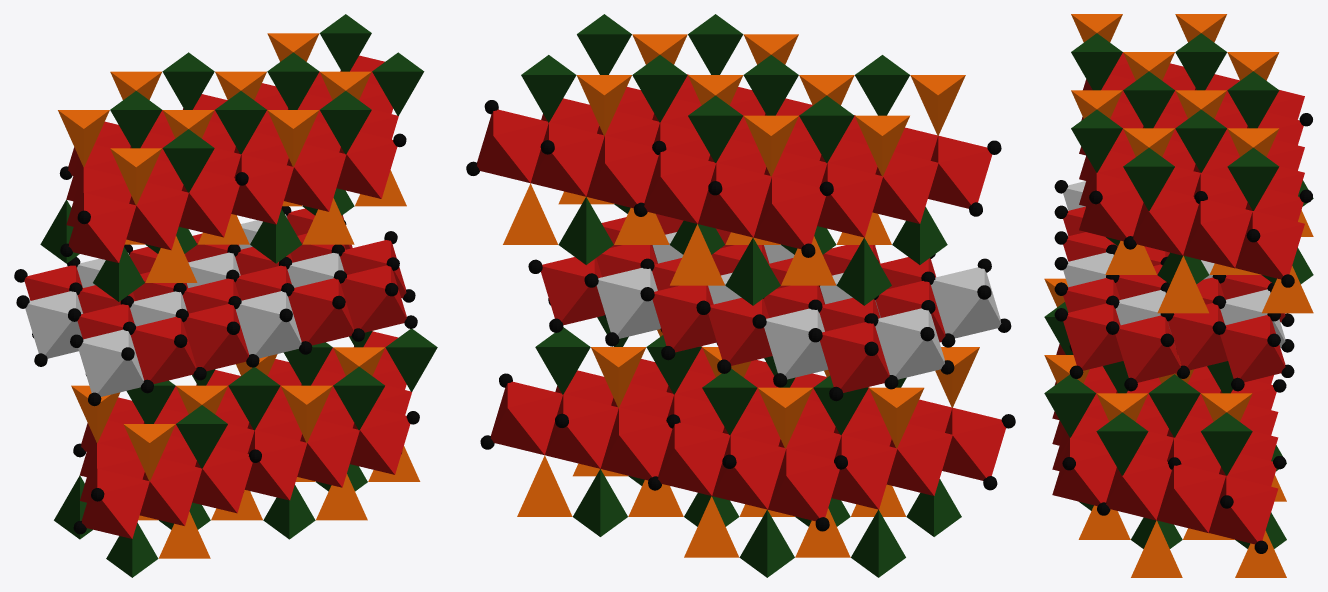
Rendered from Clorita.obj.
The picture shows the model from 3 angles, left to right: view 1: azimuth 30°, elevation 25°; view 2: azimuth 150°, elevation 25°; view 3: azimuth 270°, elevation 25°; orthographic projection. The views are drawn at different scales.
Parts seen in each view (by area): view 1: Folha_Brucita_binterlamelar_Solid.643, Folha_Brucita_cima.002_Solid.640, Folha_Brucita_baixo.002_Solid.637, Folha_tetraedrica_Br_topo_cima.002_Solid.642, Folha_tetraedrica_Br_topo.002_Solid.639, Folha_tetraedrica_Br_base_cima.002_Solid.641, Folha_tetraedrica_Br_base.002_Solid.638, Folha_hidroxila_intersticial_cima_Sphere.034, Folha_hidroxila_intersticial_baixo_Sphere.036; view 2: Folha_Brucita_cima.002_Solid.640, Folha_Brucita_baixo.002_Solid.637, Folha_Brucita_binterlamelar_Solid.643, Folha_tetraedrica_Br_topo_cima.002_Solid.642, Folha_tetraedrica_Br_base_cima.002_Solid.641, Folha_tetraedrica_Br_base.002_Solid.638, Folha_tetraedrica_Br_topo.002_Solid.639, Folha_hidroxila_intersticial_cima_Sphere.034, Folha_hidroxila_intersticial_baixo_Sphere.036, Folha_hidroxila1_cima.002_Sphere.031, Folha_hidroxila1_baixo.002_Sphere.029; view 3: Folha_Brucita_cima.002_Solid.640, Folha_Brucita_baixo.002_Solid.637, Folha_tetraedrica_Br_topo_cima.002_Solid.642, Folha_Brucita_binterlamelar_Solid.643, Folha_tetraedrica_Br_topo.002_Solid.639, Folha_tetraedrica_Br_base_cima.002_Solid.641, Folha_tetraedrica_Br_base.002_Solid.638, Folha_hidroxila_intersticial_cima_Sphere.034, Folha_hidroxila_intersticial_baixo_Sphere.036, Folha_hidroxila1_cima.002_Sphere.031, Folha_hidroxila1_baixo.002_Sphere.029.
Part boxes in pixels (bbox=[...]): Folha_Brucita_binterlamelar_Solid.643: bbox=[24, 208, 406, 396]; Folha_Brucita_cima.002_Solid.640: bbox=[66, 55, 398, 262]; Folha_Brucita_baixo.002_Solid.637: bbox=[79, 331, 411, 538]; Folha_tetraedrica_Br_topo_cima.002_Solid.642: bbox=[58, 14, 424, 205]; Folha_tetraedrica_Br_topo.002_Solid.639: bbox=[71, 329, 437, 481]; Folha_tetraedrica_Br_base_cima.002_Solid.641: bbox=[40, 170, 406, 301]; Folha_tetraedrica_Br_base.002_Solid.638: bbox=[54, 446, 420, 577]; Folha_hidroxila_intersticial_cima_Sphere.034: bbox=[14, 206, 399, 360]; Folha_hidroxila_intersticial_baixo_Sphere.036: bbox=[32, 289, 417, 406]; Folha_Brucita_cima.002_Solid.640: bbox=[477, 74, 991, 248]; Folha_Brucita_baixo.002_Solid.637: bbox=[490, 346, 1005, 521]; Folha_Brucita_binterlamelar_Solid.643: bbox=[541, 214, 1001, 392]; Folha_tetraedrica_Br_topo_cima.002_Solid.642: bbox=[521, 14, 965, 176]; Folha_tetraedrica_Br_base_cima.002_Solid.641: bbox=[503, 183, 947, 305]; Folha_tetraedrica_Br_base.002_Solid.638: bbox=[517, 455, 961, 577]; Folha_tetraedrica_Br_topo.002_Solid.639: bbox=[535, 315, 979, 448]; Folha_hidroxila_intersticial_cima_Sphere.034: bbox=[528, 245, 991, 355]; Folha_hidroxila_intersticial_baixo_Sphere.036: bbox=[548, 298, 1011, 401]; Folha_hidroxila1_cima.002_Sphere.031: bbox=[484, 100, 1001, 195]; Folha_hidroxila1_baixo.002_Sphere.029: bbox=[499, 373, 1015, 469]; Folha_Brucita_cima.002_Solid.640: bbox=[1079, 52, 1304, 279]; Folha_Brucita_baixo.002_Solid.637: bbox=[1052, 344, 1278, 544]; Folha_tetraedrica_Br_topo_cima.002_Solid.642: bbox=[1071, 14, 1279, 210]; Folha_Brucita_binterlamelar_Solid.643: bbox=[1063, 181, 1285, 382]; Folha_tetraedrica_Br_topo.002_Solid.639: bbox=[1044, 278, 1252, 475]; Folha_tetraedrica_Br_base_cima.002_Solid.641: bbox=[1105, 180, 1313, 313]; Folha_tetraedrica_Br_base.002_Solid.638: bbox=[1078, 445, 1286, 577]; Folha_hidroxila_intersticial_cima_Sphere.034: bbox=[1054, 180, 1280, 346]; Folha_hidroxila_intersticial_baixo_Sphere.036: bbox=[1069, 313, 1294, 391]; Folha_hidroxila1_cima.002_Sphere.031: bbox=[1089, 113, 1312, 242]; Folha_hidroxila1_baixo.002_Sphere.029: bbox=[1062, 379, 1286, 508].
Bounding box in the file's own units: 1.09 × 1.06 × 0.6313.
